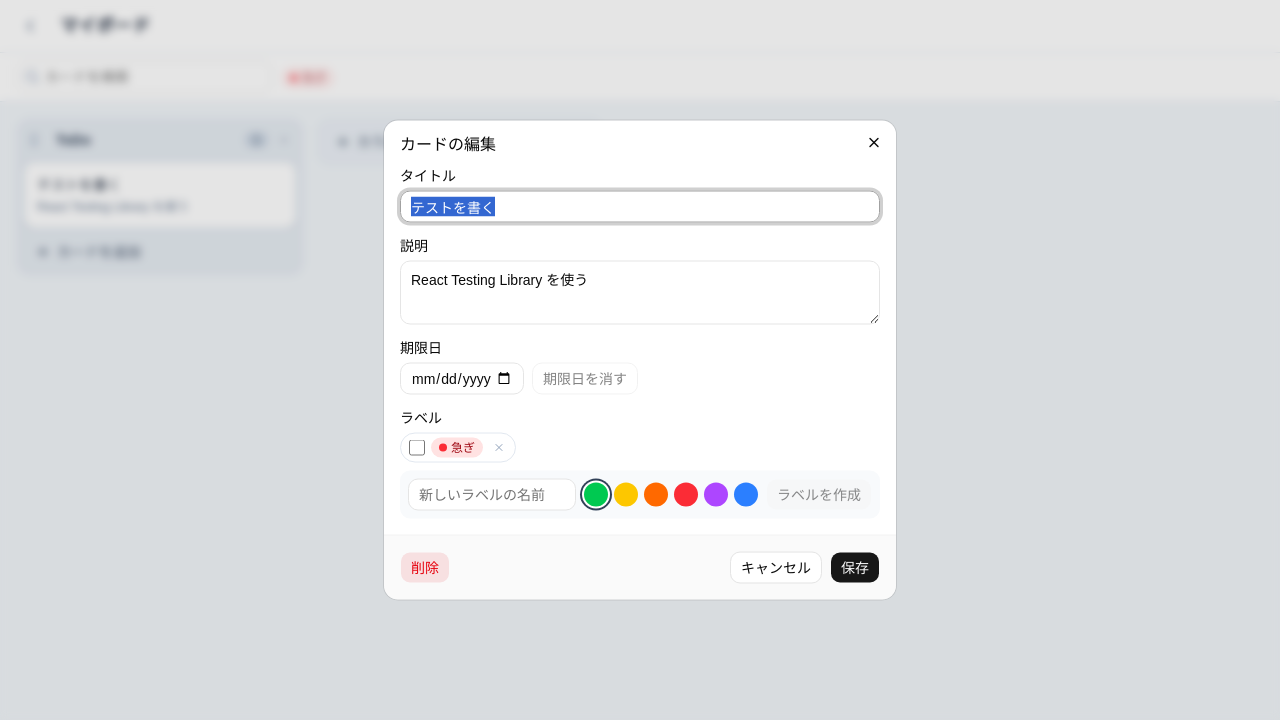
Test: カード詳細 › キャンセルすると、変えた内容を保存せずに閉じる
Expected: the dialog "カードの編集" is shown, [384,120,896,600]
Type "（書きかけ）" into the field labelled "タイトル" at [640, 206], box [400,190,880,222]
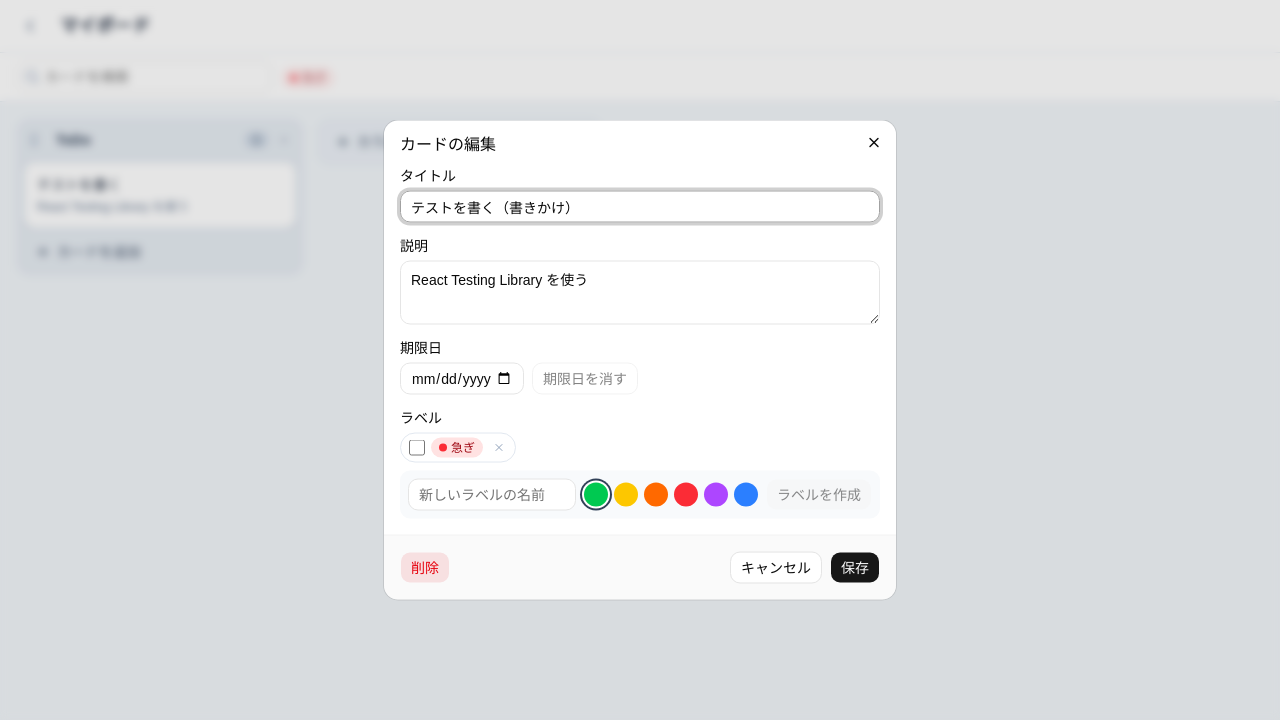
Click the button "キャンセル" at [776, 568], box [730,552,822,584]
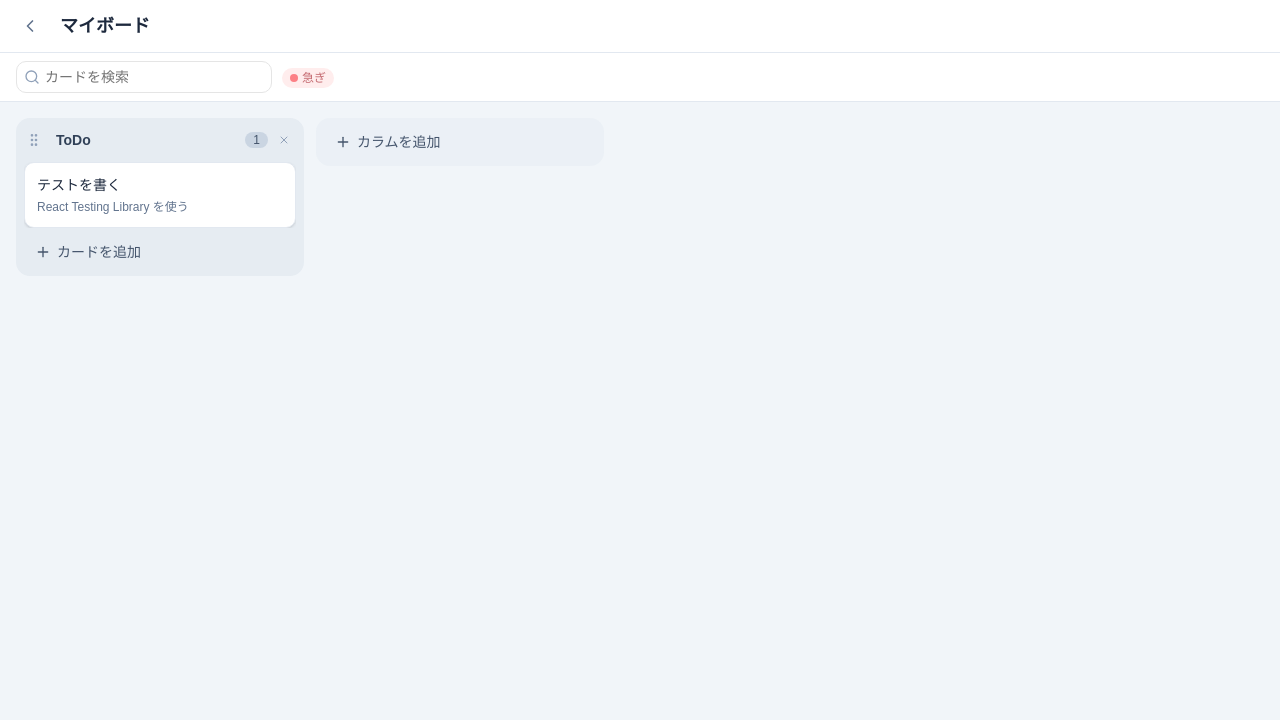
Expected: the button with aria-label "カード「テストを書く」" is shown, [24,162,296,228]
Expected: the dialog is gone
